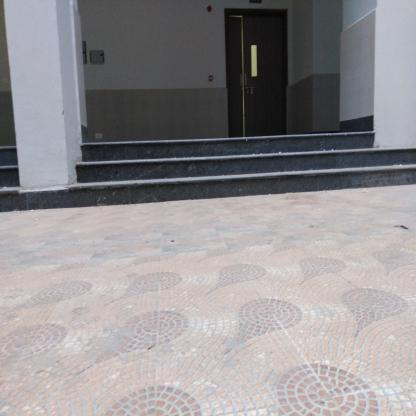stairs: (82, 129, 375, 195)
